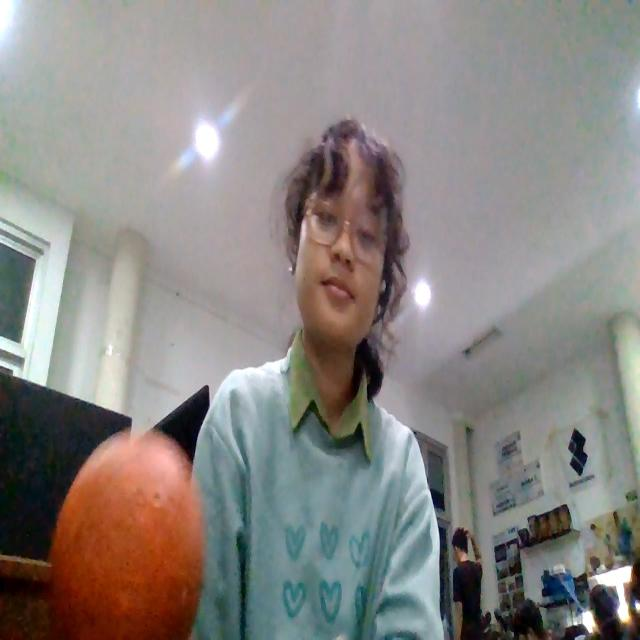ball: (46, 428, 205, 638)
